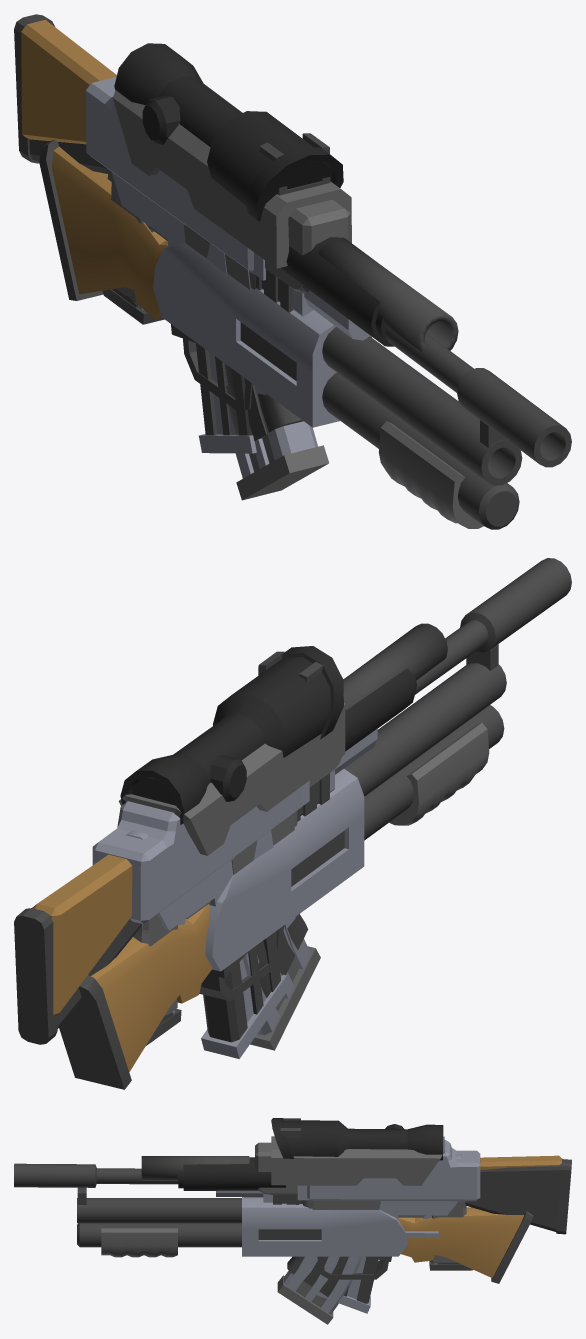
File: guns-6uu45x.glb
The picture shows the model from 3 angles, top to bottom: view 1: azimuth 30°, elevation 25°; view 2: azimuth 150°, elevation 25°; view 3: azimuth 270°, elevation 25°; orthographic projection. The views are drawn at different scales.
Parts seen in each view (by area): view 1: shotgun_DarkGrey, ar_Grey2, sniper_Black, shotgun_Grey, sniper_DarkGrey, shotgun_Wood, ar_Grey, ar_Wood, ar_DarkGrey, sniper_Grey, shotgun_Grey2, smg_Black (+1 smaller); view 2: shotgun_DarkGrey, sniper_DarkGrey, sniper_Black, shotgun_Grey, ar_Grey2, ar_Grey, shotgun_Wood, ar_Wood, sniper_Grey, ar_DarkGrey, shotgun_Grey2, smg_Black (+1 smaller); view 3: shotgun_DarkGrey, sniper_DarkGrey, ar_Grey2, shotgun_Grey, ar_Grey, shotgun_Wood, sniper_Black, sniper_Grey, smg_Black, shotgun_Grey2, ar_DarkGrey, smg_DarkGrey (+2 smaller).
Boxes of the visible parts, left/top/right/bottom form: shotgun_DarkGrey: left=39, top=139, right=522, bottom=529; ar_Grey2: left=111, top=90, right=351, bottom=500; sniper_Black: left=114, top=43, right=343, bottom=221; shotgun_Grey: left=153, top=243, right=372, bottom=427; sniper_DarkGrey: left=14, top=14, right=571, bottom=467; shotgun_Wood: left=51, top=146, right=168, bottom=319; ar_Grey: left=86, top=76, right=317, bottom=478; ar_Wood: left=21, top=19, right=116, bottom=144; ar_DarkGrey: left=259, top=133, right=458, bottom=351; sniper_Grey: left=112, top=172, right=370, bottom=453; shotgun_Grey2: left=378, top=421, right=483, bottom=528; smg_Black: left=281, top=237, right=394, bottom=346; shotgun_DarkGrey: left=59, top=644, right=506, bottom=1089; sniper_DarkGrey: left=14, top=558, right=571, bottom=1044; sniper_Black: left=120, top=646, right=343, bottom=824; shotgun_Grey: left=205, top=769, right=364, bottom=971; ar_Grey2: left=118, top=695, right=345, bottom=1050; ar_Grey: left=92, top=786, right=310, bottom=1035; shotgun_Wood: left=91, top=904, right=212, bottom=1071; ar_Wood: left=32, top=854, right=132, bottom=1015; sniper_Grey: left=157, top=728, right=377, bottom=1058; ar_DarkGrey: left=258, top=623, right=447, bottom=709; shotgun_Grey2: left=389, top=723, right=489, bottom=825; smg_Black: left=345, top=668, right=416, bottom=751; shotgun_DarkGrey: left=77, top=1187, right=533, bottom=1283; sniper_DarkGrey: left=14, top=1159, right=571, bottom=1303; ar_Grey2: left=255, top=1136, right=466, bottom=1324; shotgun_Grey: left=242, top=1197, right=407, bottom=1256; ar_Grey: left=284, top=1140, right=480, bottom=1314; shotgun_Wood: left=398, top=1207, right=524, bottom=1278; sniper_Black: left=271, top=1118, right=443, bottom=1160; sniper_Grey: left=216, top=1190, right=457, bottom=1313; smg_Black: left=178, top=1157, right=285, bottom=1190; shotgun_Grey2: left=101, top=1228, right=177, bottom=1257; ar_DarkGrey: left=141, top=1118, right=300, bottom=1180; smg_DarkGrey: left=287, top=1256, right=473, bottom=1296.
Bounding box in the file's own units: 0.1133 × 0.4781 × 1.22.
